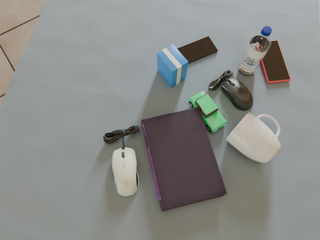book: (141, 107, 227, 211)
bottle: (239, 26, 272, 75)
box: (157, 44, 188, 87)
cup: (226, 112, 281, 163)
mouse: (209, 70, 253, 110), (112, 146, 139, 196)
phone: (260, 40, 291, 83), (177, 36, 218, 63)
toy_car: (189, 91, 227, 132)
